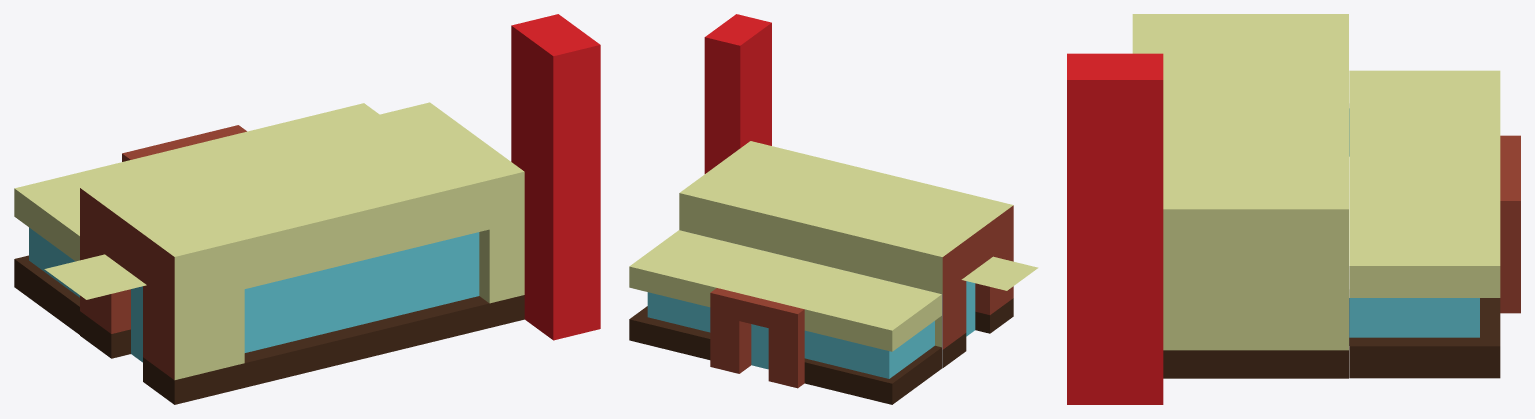
The model's file is McDonals.fbx.
3 renders of one model, left to right at view 1: azimuth 30°, elevation 25°; view 2: azimuth 150°, elevation 25°; view 3: azimuth 270°, elevation 25°, orthographic. The views are drawn at different scales.
Visible parts, largest first — view 1: Cube; view 2: Cube; view 3: Cube.
Boxes of the visible parts, left/top/right/bottom form: Cube: left=14, top=14, right=600, bottom=404; Cube: left=629, top=14, right=1038, bottom=404; Cube: left=1067, top=14, right=1520, bottom=404.
Size of the model in its own units: 1944 by 1153 by 1459.
